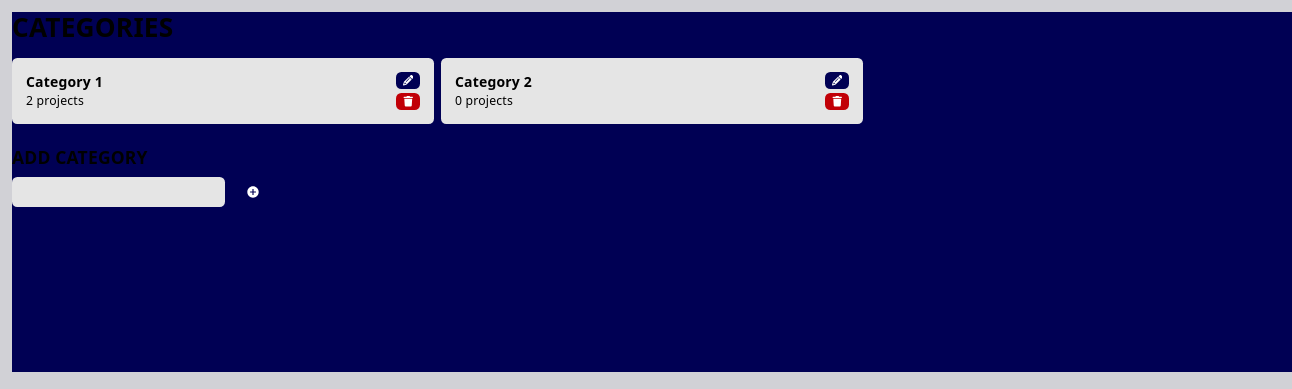
Scenario: CategoryEditor › adding › creates the category, reloads the list and clears the input
# the new category input has no label
Type "Category 3" into the field.
click(118, 192); type("Category 3")  # box [12,176,224,207]
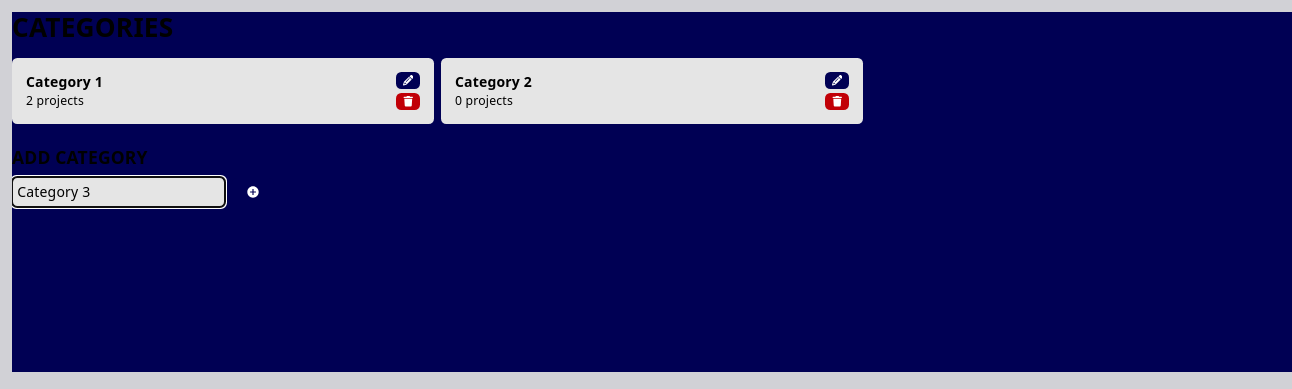
Click the button named "submit".
click(252, 192)  # box [232,178,274,206]
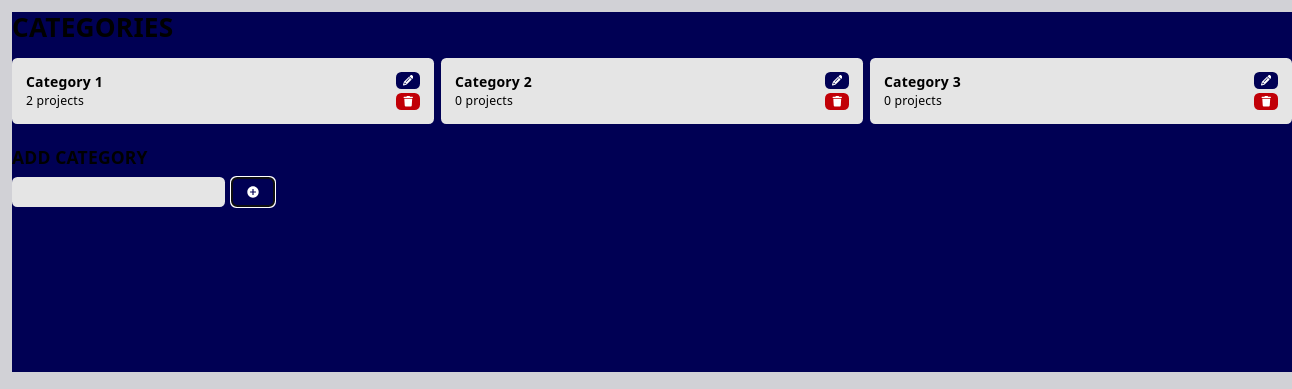
Expected: the text "Category 3" is shown, [884,72,961,90]
Expected: the field is empty, [12,176,224,207]
